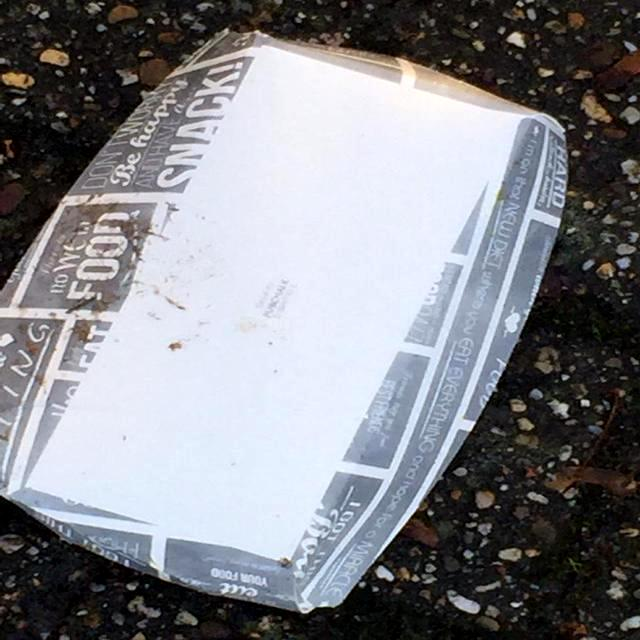Paper: (1, 19, 573, 615)
